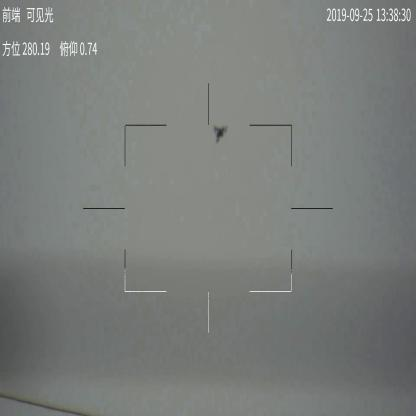uav: (212, 122, 228, 147)
